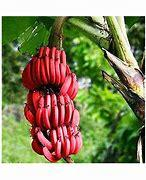banana: (19, 40, 90, 164), (19, 90, 82, 153)
